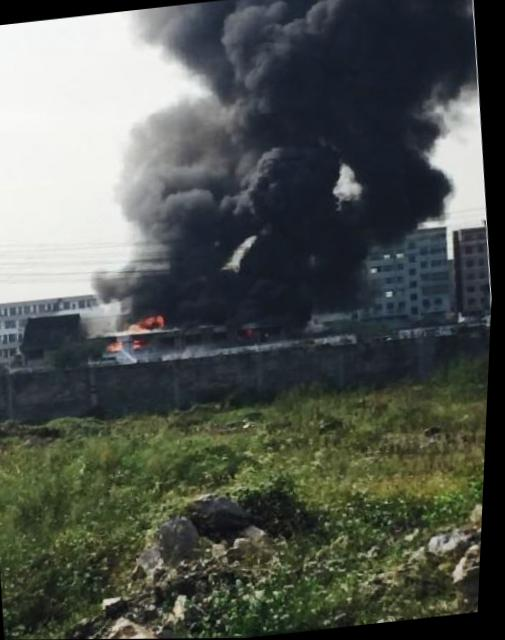fire: (130, 314, 167, 333), (104, 336, 127, 354)
smoke: (104, 0, 496, 263), (89, 237, 350, 320)
